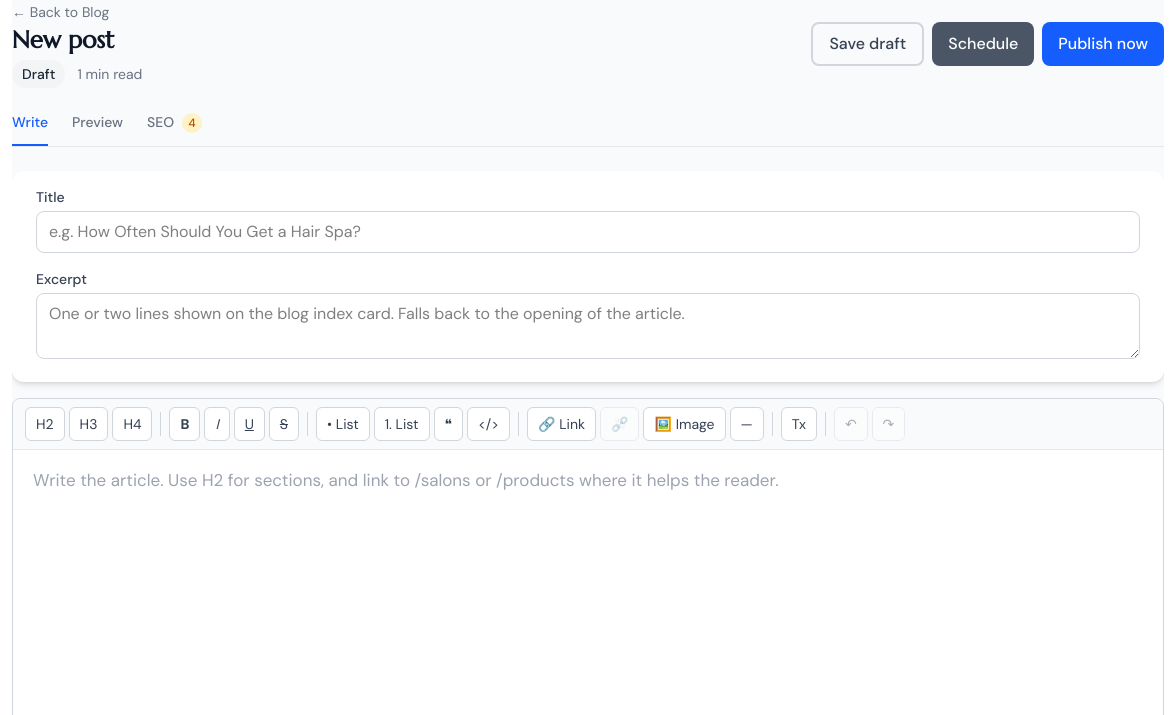
new post › stops deriving the slug once the author edits it
The width and height of the screenshot is (1176, 715).
Type "First title" into the field labelled "Title" at [588, 232], box [36,211,1140,253]
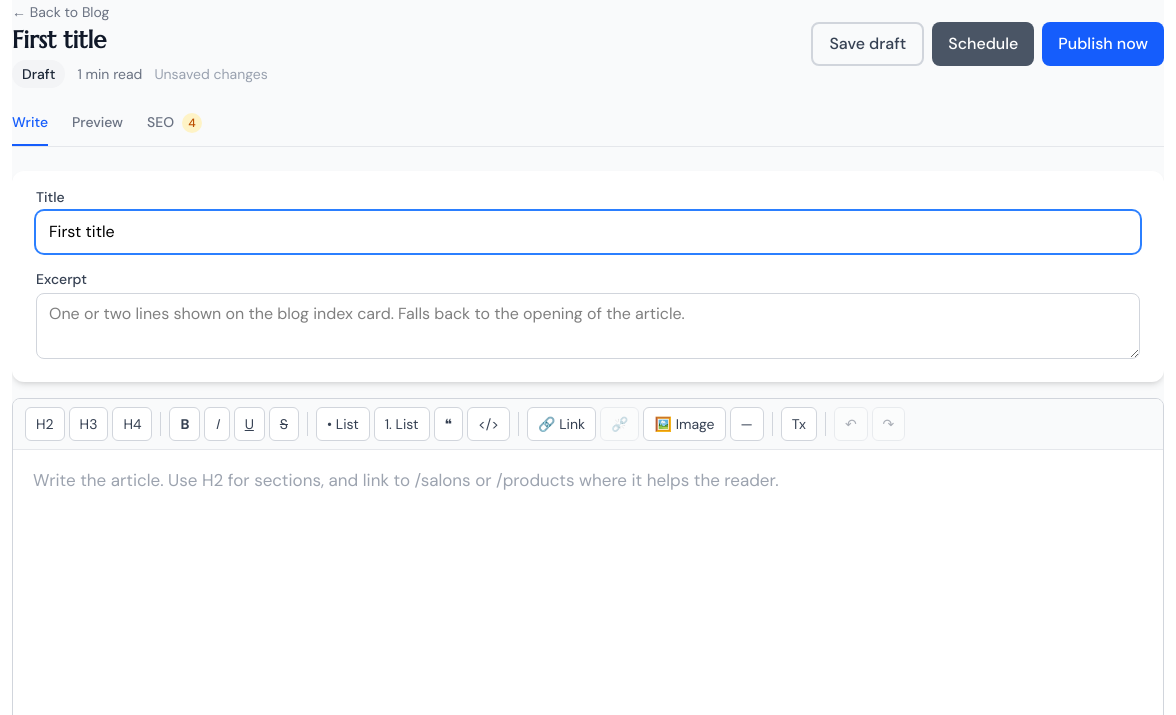
Click the tab "SEO4" at [174, 129], box [147,112,202,146]
(page scrolled)
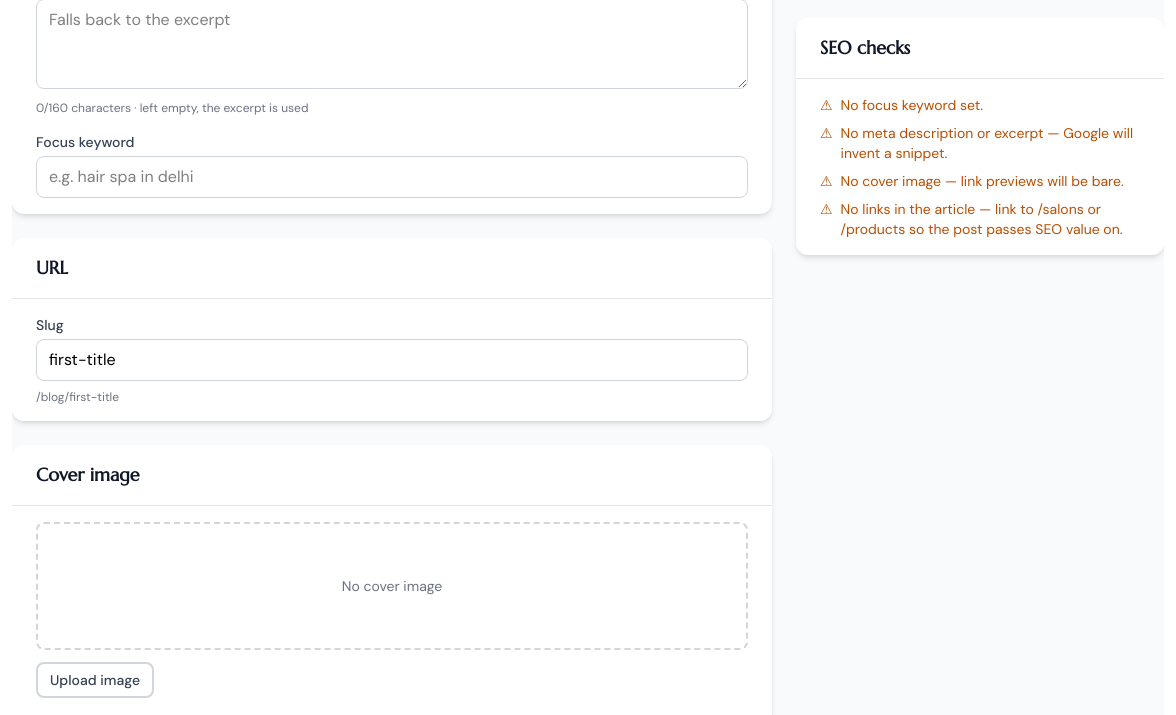
Type "my-chosen-slug" into the field labelled "Slug" at [392, 360], box [36,339,748,381]
(page scrolled)
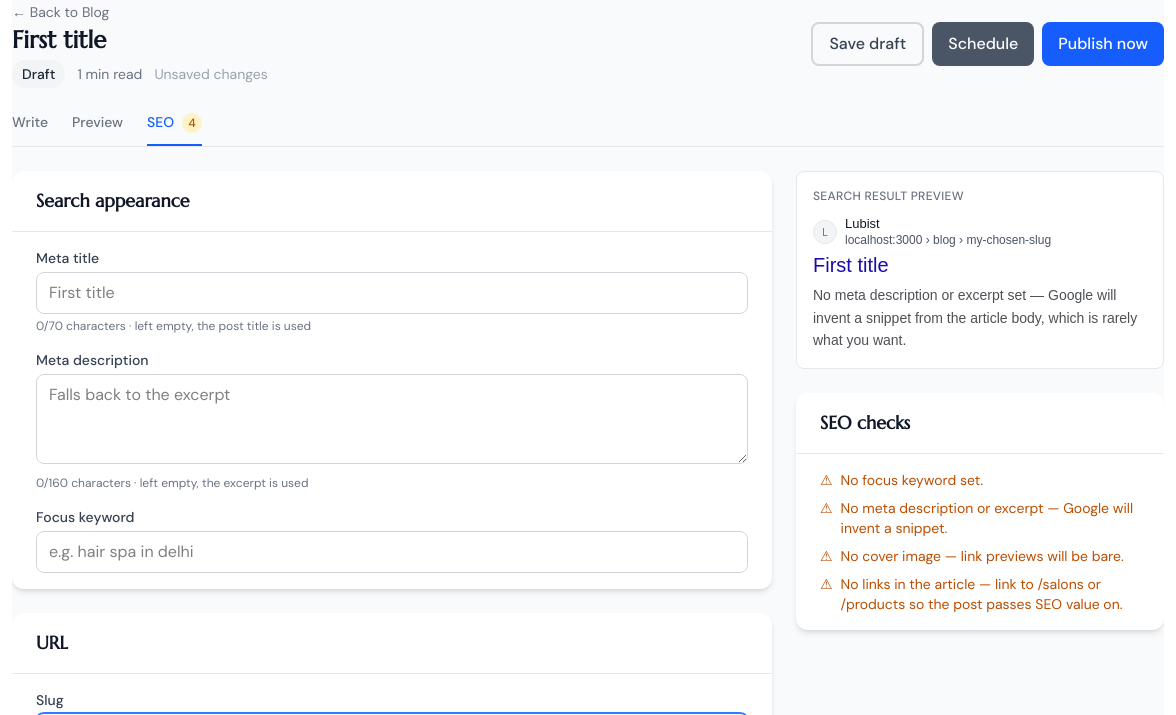
Click the tab "Write" at [30, 129], box [12,112,48,146]
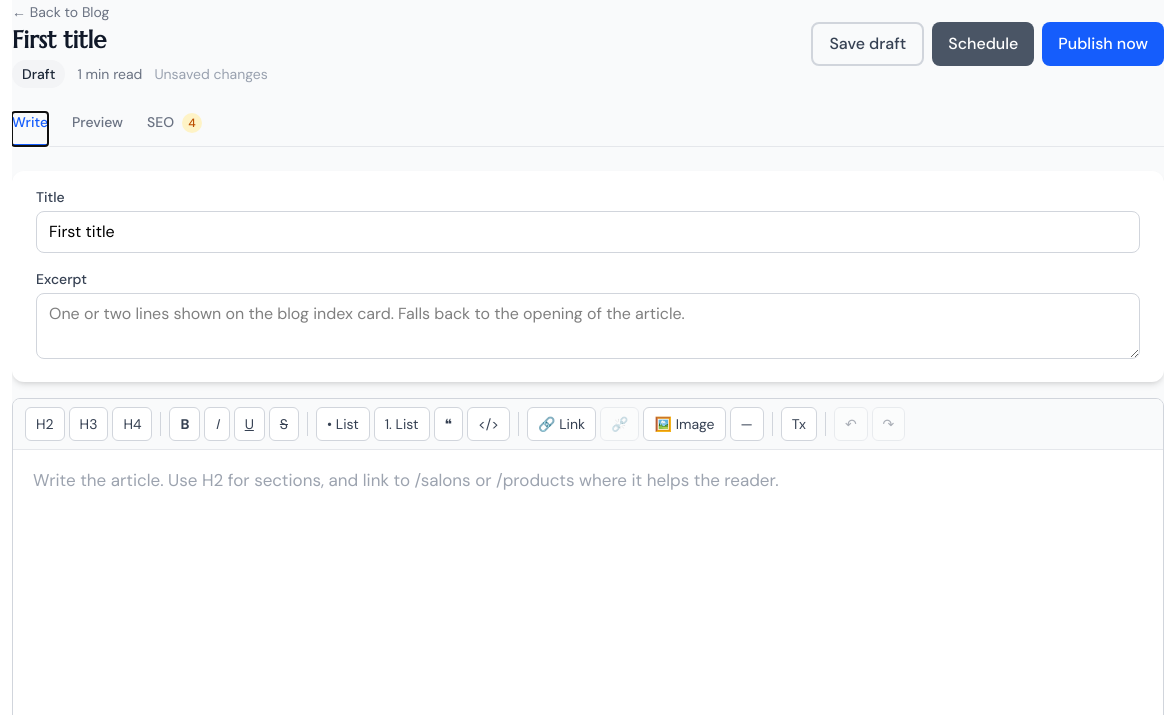
Type " changed" into the field labelled "Title" at [588, 232], box [36,211,1140,253]
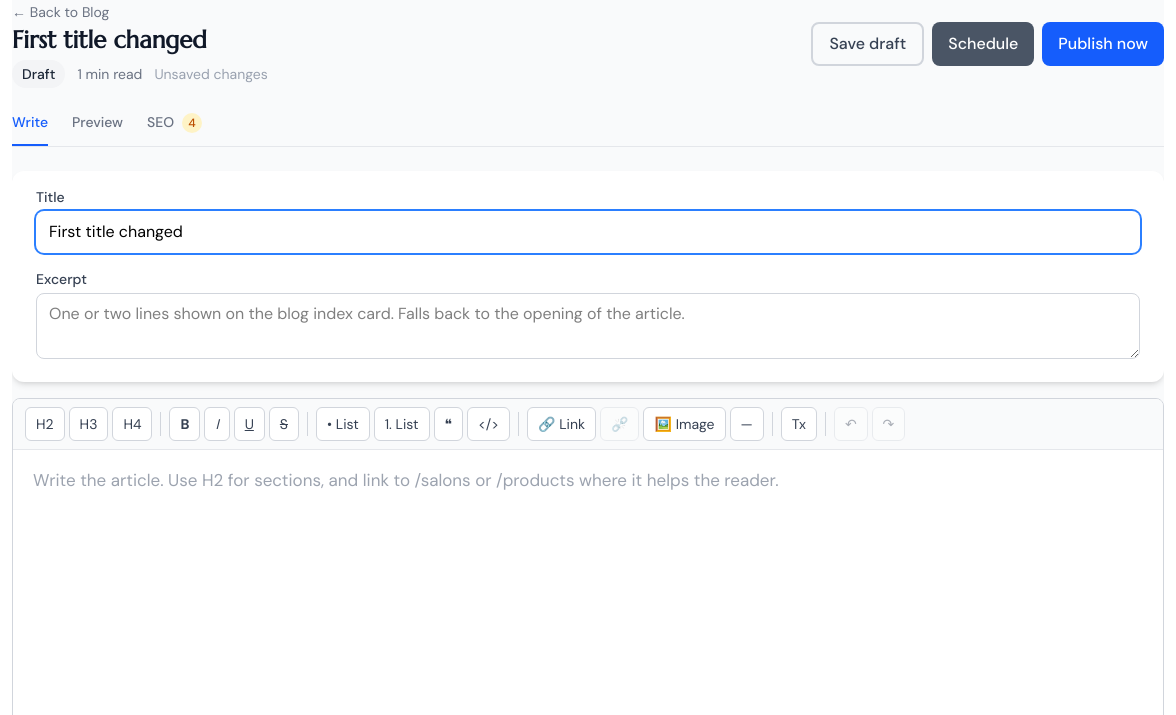
Click the tab "SEO4" at [174, 129], box [147,112,202,146]
(page scrolled)
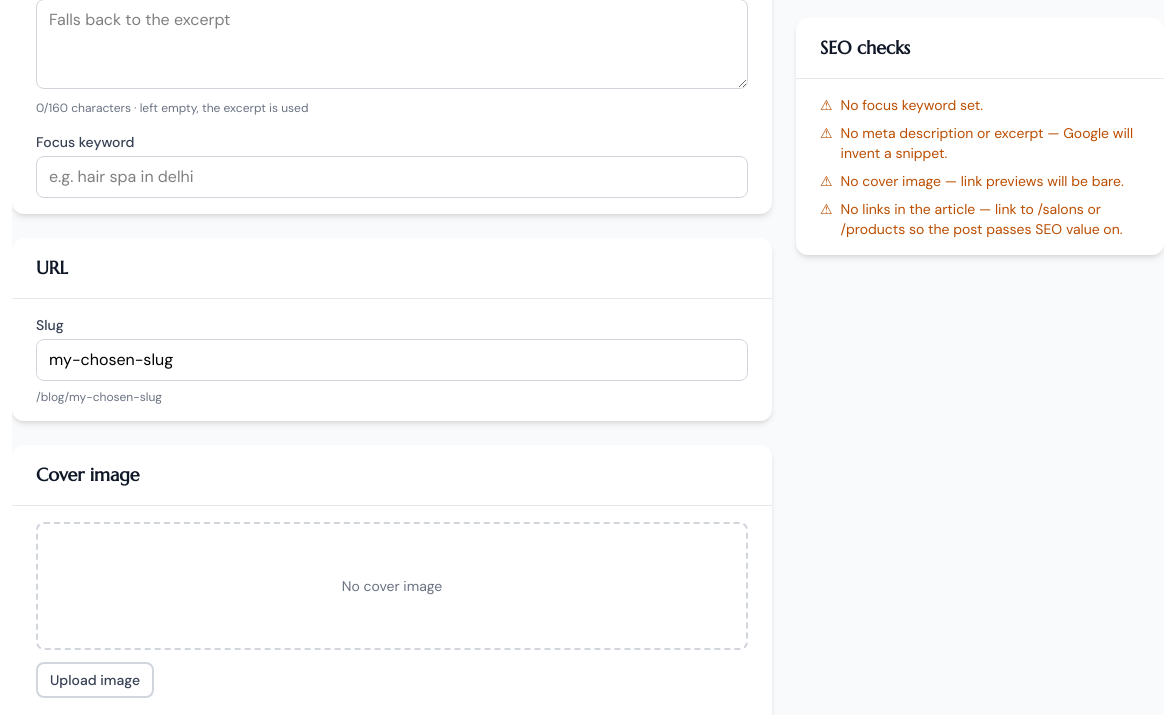
Expected: the field labelled "Slug" holds "my-chosen-slug", [36,339,748,381]
